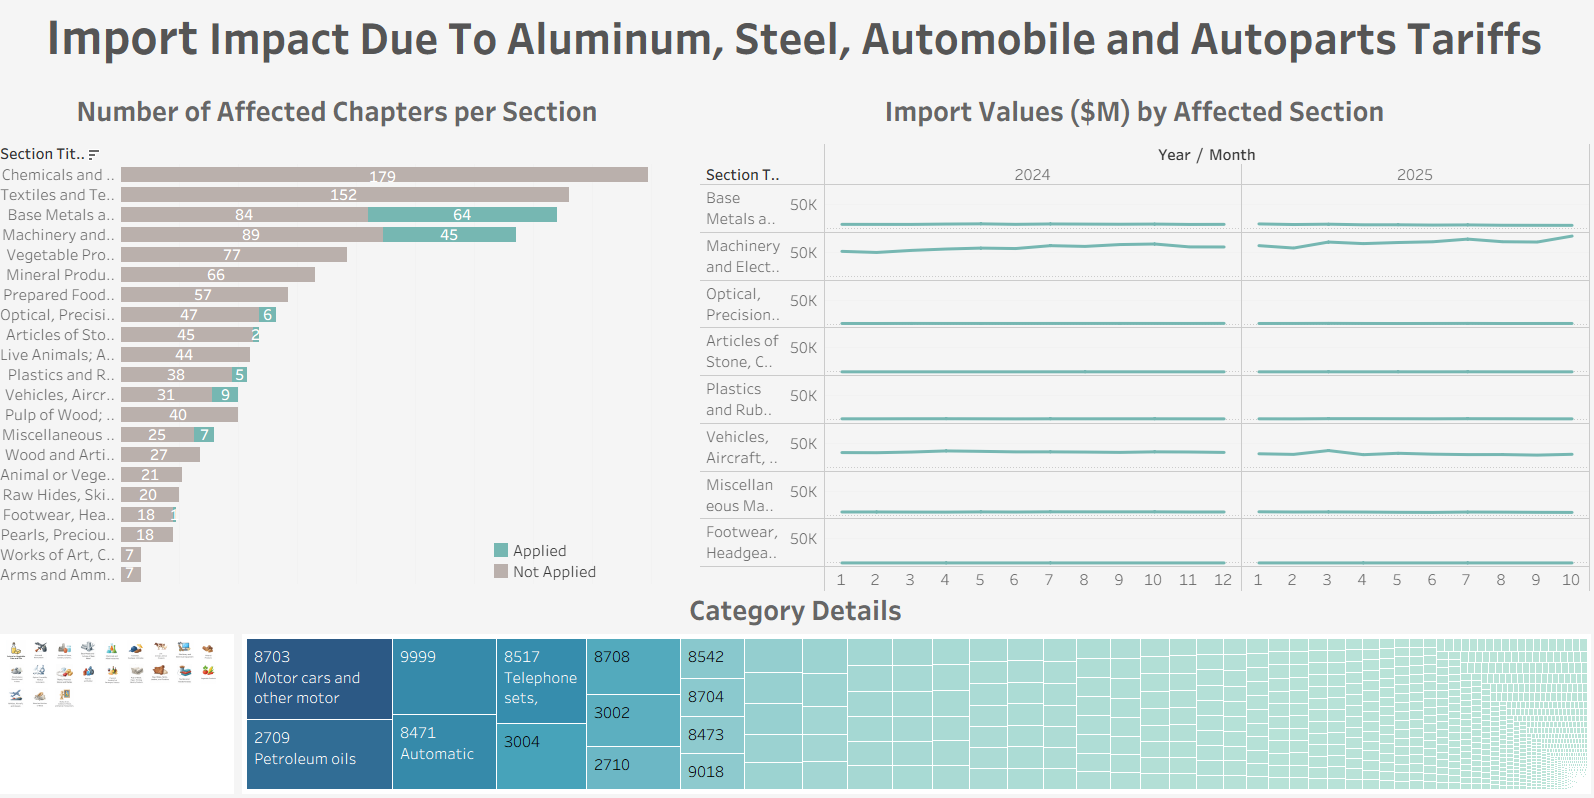

This screenshot's page, from the dashboard's own definition file:
{"tool":"tableau","page":{"name":"Impacts: Products","canvas":[1000,1000],"units":"permille","ordinal":2},"visuals":[{"type":"text","box":[1.6,2.2,996.1,94.2]},{"type":"text","box":[1.6,119,531.2,40]},{"type":"text","box":[532.8,119,465.6,40]},{"type":"worksheet","title":"Imp_Prod: Sections","mark":"Bar","rows":["Section Title"],"cols":["Tariff"],"box":[0.8,181.8,546.9,543.3]},{"type":"worksheet","title":"Imp_Prod: HS","mark":"Line","rows":["Section Title","fobvalue"],"cols":["Year","Month"],"box":[547.7,181.8,451.4,543.3]},{"type":"legend","title":"Imp_Prod: Sections","param":"[federated.0itw6t31pglb0g1c5mcft132owkg].[none:Tariff:nk]","box":[344.5,598.5,201.6,62.8]},{"type":"text","box":[1.6,727.3,997.7,34.6]},{"type":"worksheet","title":"Imp_Prod: Images","mark":"Shape","box":[1.6,761.9,164.1,241.3]},{"type":"worksheet","title":"Over_Prod: Detail1","mark":"Automatic","box":[165.6,761.9,833.6,241.3]}]}

Visuals, with their boxes on the dashboard's canvas, which has no fixed pixel size, in thousandths of its width and height (x1, y1, x2, y2). These are canvas units, not pixel positions in the 1594x798 screenshot, which may show the page scaled, cropped or inside an application window:
text: bbox(2, 2, 998, 96)
text: bbox(2, 119, 533, 159)
text: bbox(533, 119, 998, 159)
"Imp_Prod: Sections" worksheet (Bar marks): bbox(1, 182, 548, 725)
"Imp_Prod: HS" worksheet (Line marks): bbox(548, 182, 999, 725)
"Imp_Prod: Sections" legend: bbox(344, 598, 546, 661)
text: bbox(2, 727, 999, 762)
"Imp_Prod: Images" worksheet (Shape marks): bbox(2, 762, 166, 1003)
"Over_Prod: Detail1" worksheet: bbox(166, 762, 999, 1003)
